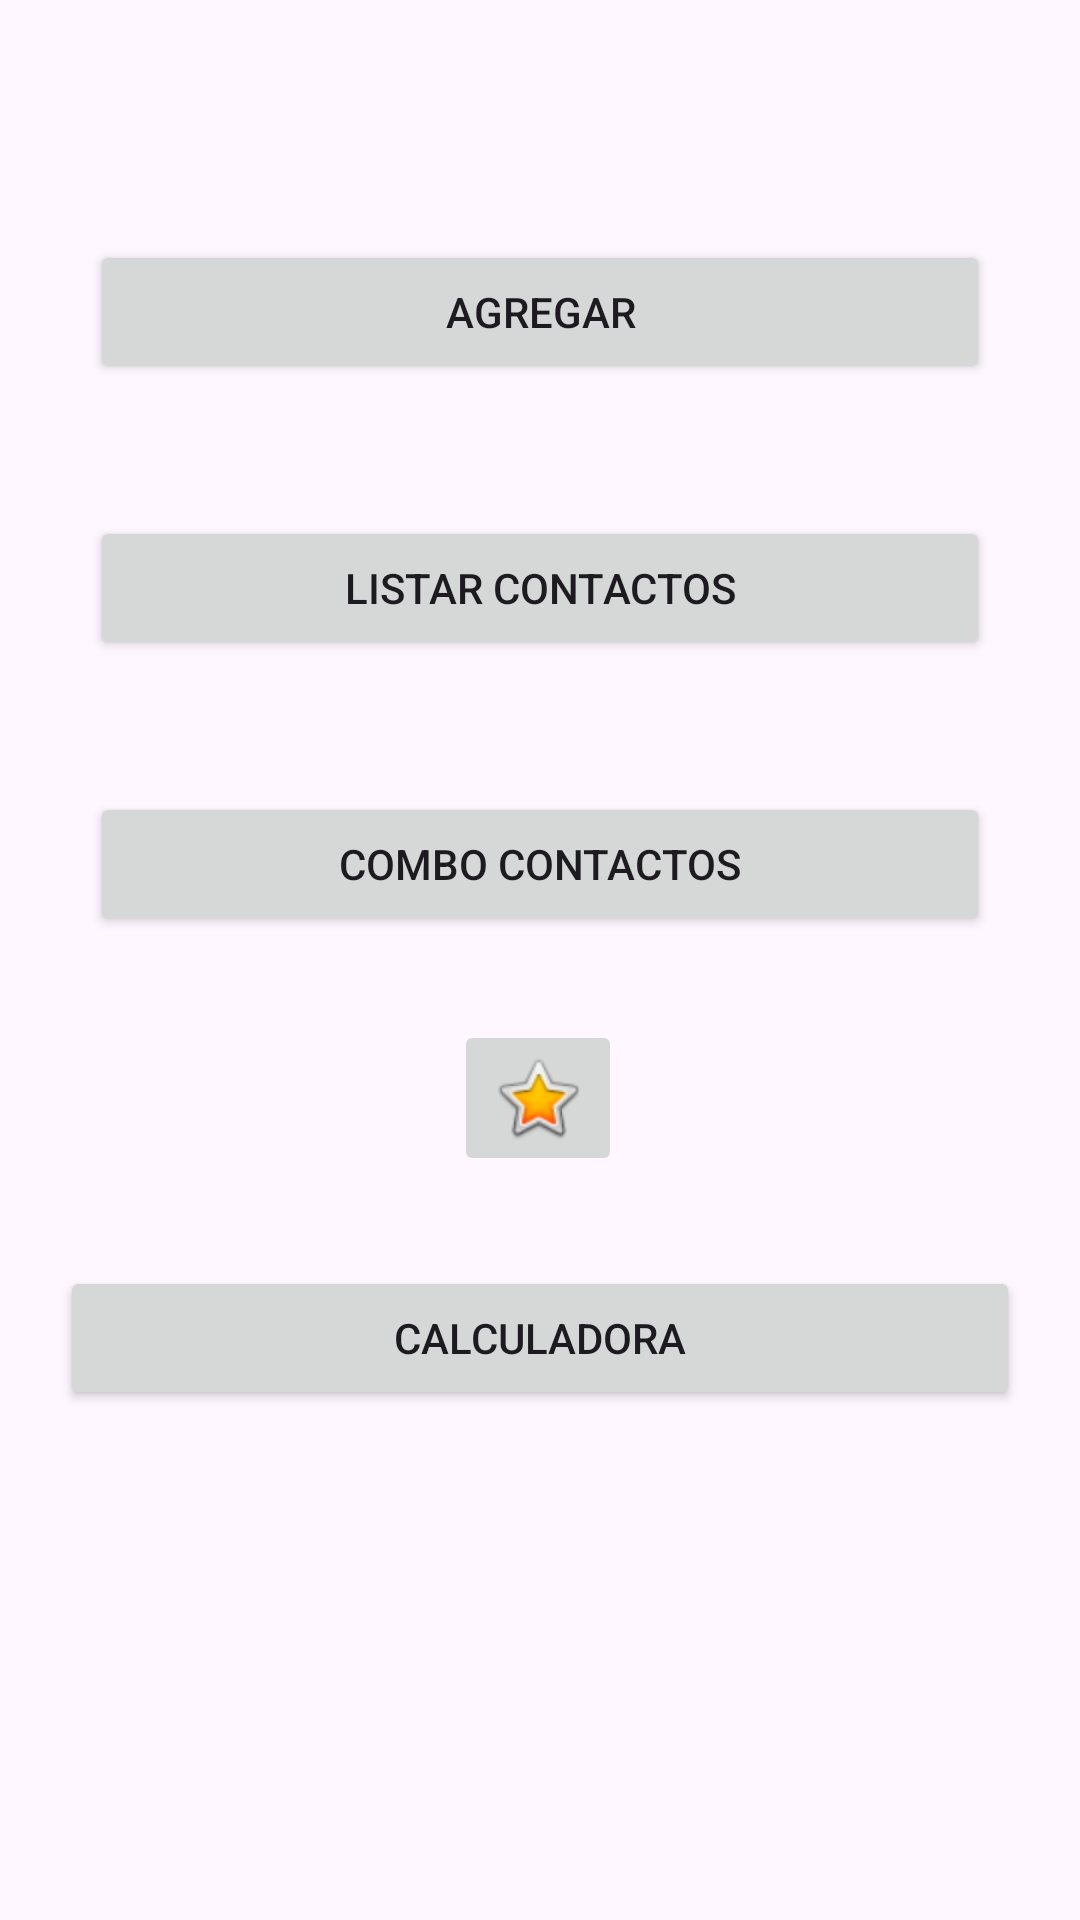

Icon click points for this 1080*1920 phone screenshot, format [x,y]:
star on: [538,1098]
